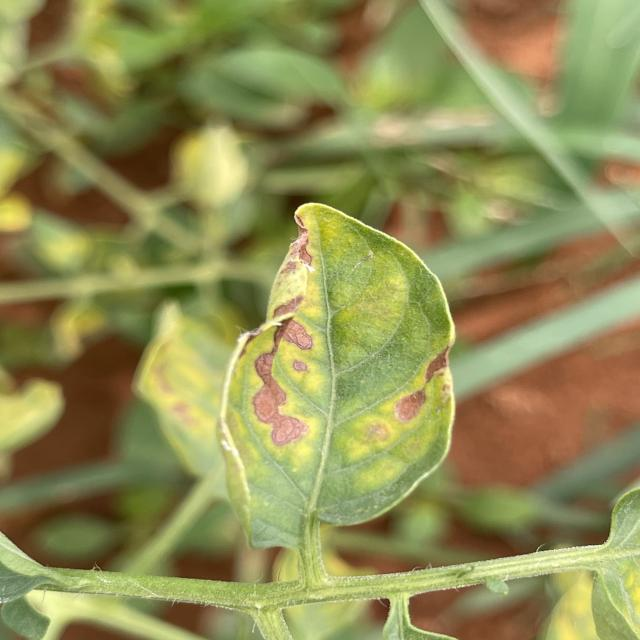tomato_early blight: (216, 203, 462, 544)
